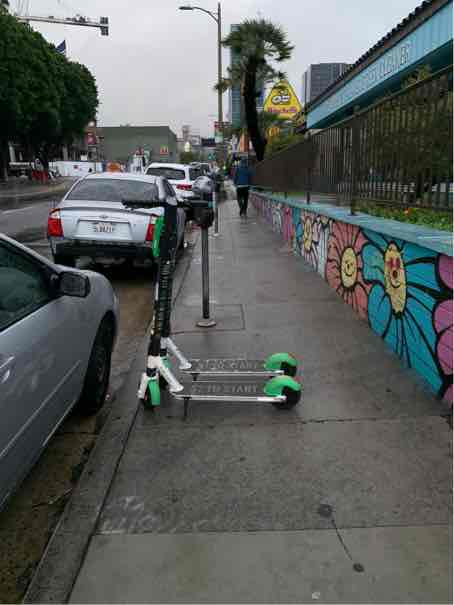too close: (112, 372, 170, 432)
